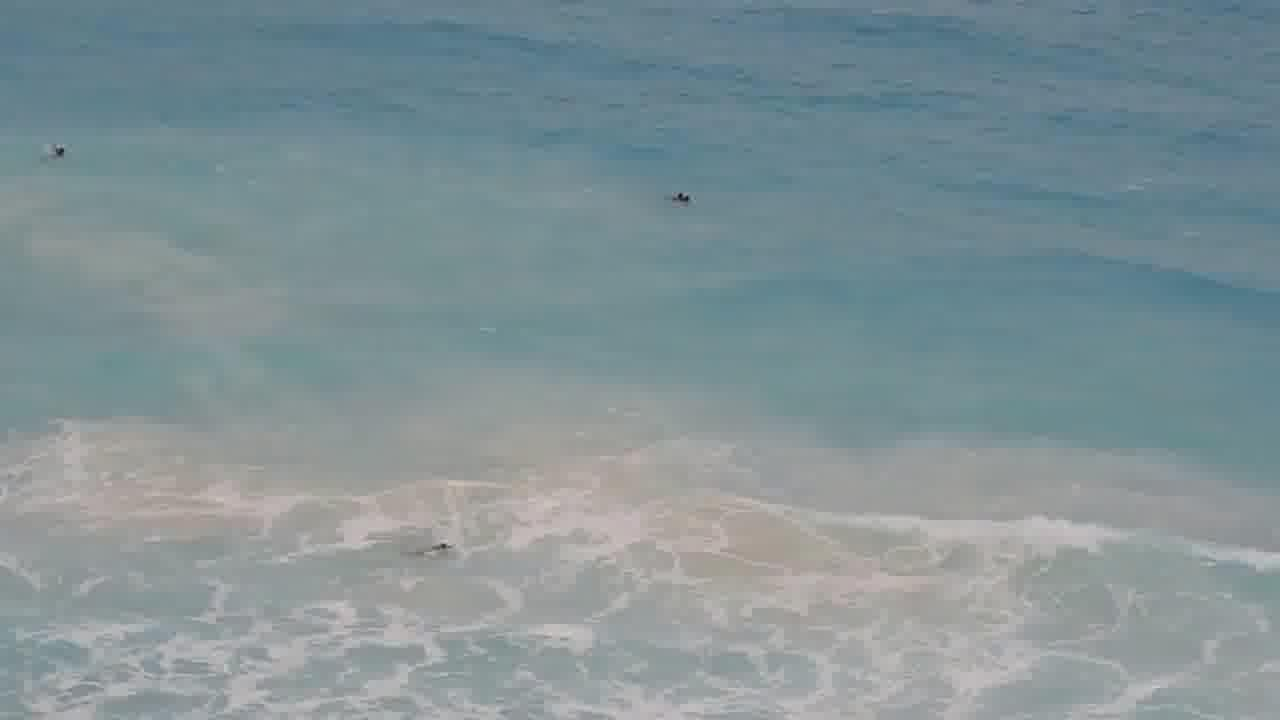human: (44, 135, 88, 163), (664, 185, 705, 213), (418, 532, 465, 555)
